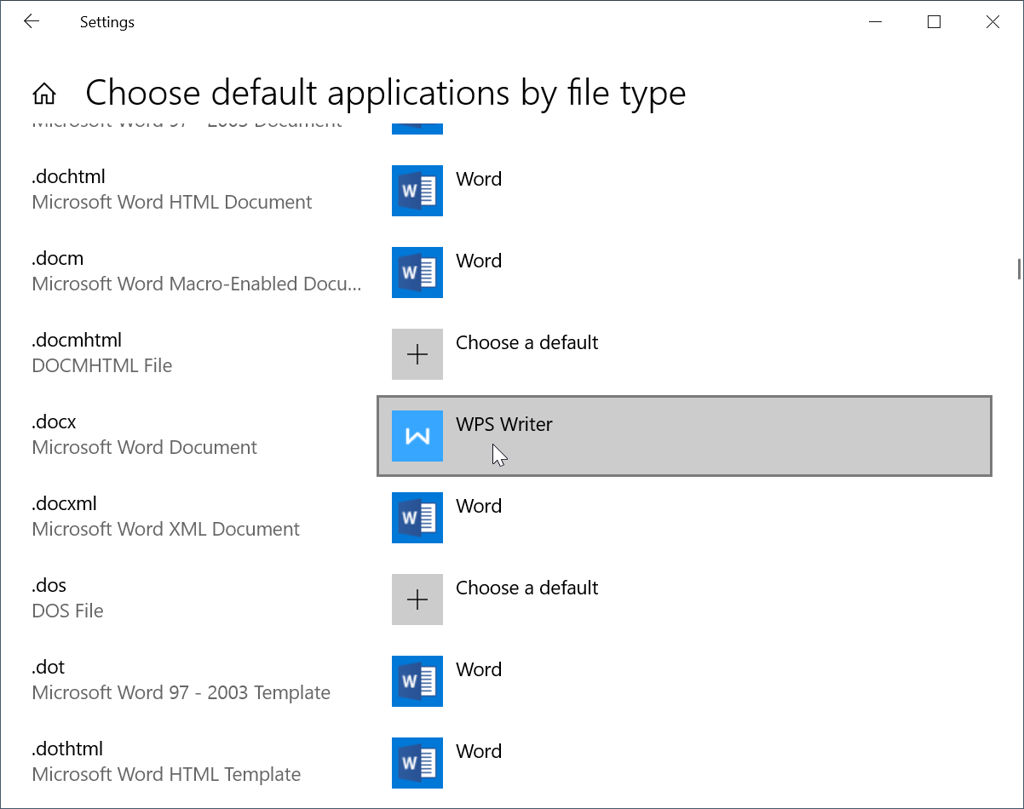button: (374, 392, 995, 478), (389, 322, 611, 383), (390, 567, 604, 628), (386, 241, 523, 300), (388, 159, 518, 221), (389, 488, 505, 550), (389, 651, 512, 709), (389, 734, 506, 792), (19, 7, 43, 34), (863, 9, 888, 30), (921, 8, 946, 29), (980, 9, 1005, 30)
common: (29, 680, 332, 704), (30, 188, 318, 213), (29, 515, 301, 541), (30, 272, 365, 293), (27, 762, 304, 785), (29, 433, 261, 459), (30, 352, 174, 377), (30, 329, 125, 351), (28, 735, 106, 760), (29, 599, 111, 622), (30, 165, 111, 187), (30, 491, 102, 515), (29, 248, 88, 271), (29, 411, 83, 433), (30, 572, 69, 594), (29, 657, 69, 678)
container: (1, 46, 1024, 808), (26, 390, 999, 481), (1, 1, 1024, 46), (28, 317, 616, 387), (27, 567, 606, 631), (27, 157, 529, 225), (25, 242, 527, 305), (26, 731, 509, 796), (27, 649, 516, 713), (27, 488, 508, 553)
header: (80, 71, 687, 115), (78, 9, 137, 32)
image: (28, 78, 58, 109)
